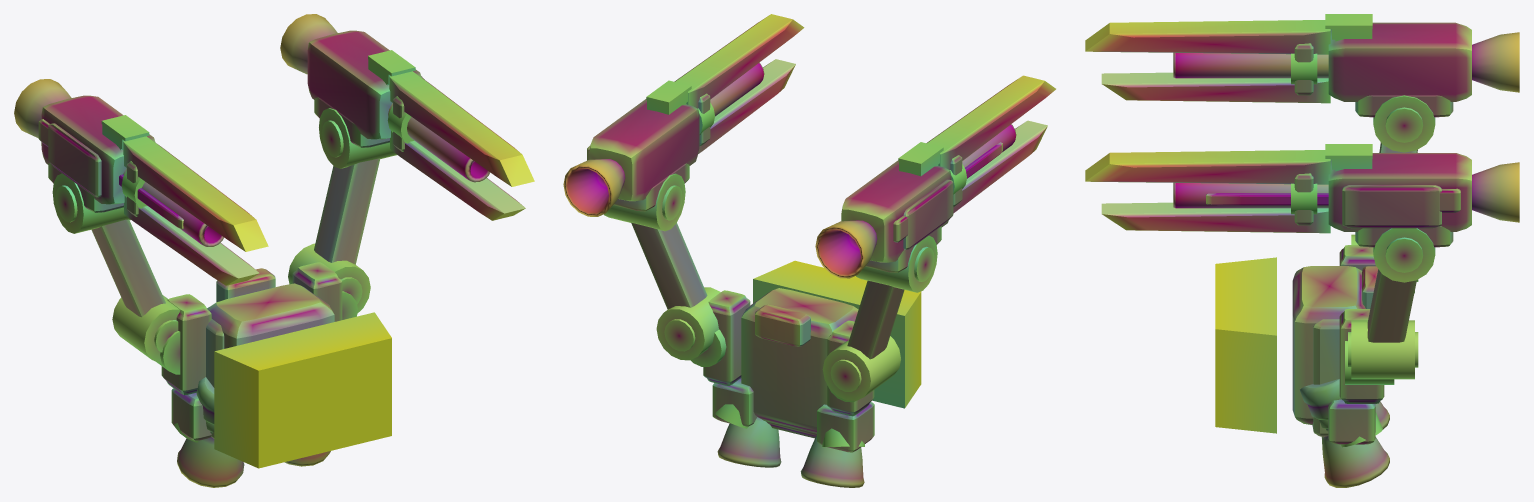
File: llm_gen_dorsal_pack_113_72700b.glb
3 renders of one model, left to right at view 1: azimuth 30°, elevation 25°; view 2: azimuth 150°, elevation 25°; view 3: azimuth 270°, elevation 25°, orthographic. The views are drawn at different scales.
Parts seen in each view (by area): view 1: mounting_dovetail_plug, artillery_breech_6_titanium_silver_r, artillery_upper_rail_12_titanium_silver_r, artillery_upper_rail_12_titanium_silver_l, adapter_dorsal_spine_dark, artillery_pylon_2_adapter_dark_r, artillery_breech_6_titanium_silver_l, artillery_pylon_2_adapter_dark_l, artillery_lower_rail_13_adapter_dark_r, artillery_lower_rail_13_adapter_dark_l, adapter_dorsal_outrigger_dark_l, artillery_flank_armor_7_cobalt_anodized_l (+22 smaller); view 2: adapter_dorsal_spine_dark, artillery_breech_6_titanium_silver_r, mounting_dovetail_plug, artillery_breech_6_titanium_silver_l, artillery_upper_rail_12_titanium_silver_r, artillery_upper_rail_12_titanium_silver_l, artillery_pylon_2_adapter_dark_r, artillery_rear_venturi_10_vernier_bell_l, artillery_rear_venturi_10_vernier_bell_r, artillery_pylon_2_adapter_dark_l, adapter_dorsal_outrigger_dark_r, adapter_sub_art_drum_dark_0_adapter_dark_l (+23 smaller); view 3: mounting_dovetail_plug, artillery_breech_6_titanium_silver_l, artillery_upper_rail_12_titanium_silver_r, artillery_upper_rail_12_titanium_silver_l, artillery_breech_6_titanium_silver_r, adapter_dorsal_spine_dark, artillery_lower_rail_13_adapter_dark_r, artillery_lower_rail_13_adapter_dark_l, artillery_flank_armor_7_cobalt_anodized_r, artillery_barrel_11_barrel_metal_l, adapter_sub_art_drum_dark_0_adapter_dark_r, artillery_pylon_2_adapter_dark_r (+24 smaller).
Part boxes in pixels (x1=…): mounting_dovetail_plug: x1=214, y1=312, x2=391, y2=468; artillery_breech_6_titanium_silver_r: x1=307, y1=30, x2=421, y2=139; artillery_upper_rail_12_titanium_silver_r: x1=389, y1=71, x2=534, y2=186; artillery_upper_rail_12_titanium_silver_l: x1=123, y1=136, x2=268, y2=251; adapter_dorsal_spine_dark: x1=207, y1=283, x2=334, y2=348; artillery_pylon_2_adapter_dark_r: x1=314, y1=158, x2=380, y2=264; artillery_breech_6_titanium_silver_l: x1=41, y1=95, x2=155, y2=204; artillery_pylon_2_adapter_dark_l: x1=91, y1=219, x2=165, y2=317; artillery_lower_rail_13_adapter_dark_r: x1=390, y1=131, x2=525, y2=220; artillery_lower_rail_13_adapter_dark_l: x1=124, y1=195, x2=259, y2=285; adapter_dorsal_outrigger_dark_l: x1=161, y1=294, x2=211, y2=395; artillery_flank_armor_7_cobalt_anodized_l: x1=48, y1=123, x2=101, y2=197; adapter_dorsal_spine_dark: x1=741, y1=288, x2=858, y2=433; artillery_breech_6_titanium_silver_r: x1=589, y1=99, x2=699, y2=201; mounting_dovetail_plug: x1=753, y1=260, x2=921, y2=408; artillery_breech_6_titanium_silver_l: x1=841, y1=160, x2=951, y2=262; artillery_upper_rail_12_titanium_silver_r: x1=674, y1=14, x2=804, y2=108; artillery_upper_rail_12_titanium_silver_l: x1=926, y1=75, x2=1055, y2=169; artillery_pylon_2_adapter_dark_r: x1=631, y1=222, x2=707, y2=309; artillery_rear_venturi_10_vernier_bell_l: x1=815, y1=220, x2=877, y2=278; artillery_rear_venturi_10_vernier_bell_r: x1=563, y1=159, x2=625, y2=216; artillery_pylon_2_adapter_dark_l: x1=847, y1=280, x2=904, y2=359; adapter_dorsal_outrigger_dark_r: x1=703, y1=290, x2=750, y2=385; adapter_sub_art_drum_dark_0_adapter_dark_l: x1=822, y1=336, x2=900, y2=400; mounting_dovetail_plug: x1=1215, y1=257, x2=1276, y2=433; artillery_breech_6_titanium_silver_l: x1=1328, y1=22, x2=1471, y2=101; artillery_upper_rail_12_titanium_silver_r: x1=1085, y1=150, x2=1330, y2=184; artillery_upper_rail_12_titanium_silver_l: x1=1085, y1=20, x2=1330, y2=54; artillery_breech_6_titanium_silver_r: x1=1328, y1=153, x2=1471, y2=231; adapter_dorsal_spine_dark: x1=1292, y1=266, x2=1365, y2=424; artillery_lower_rail_13_adapter_dark_r: x1=1101, y1=202, x2=1330, y2=233; artillery_lower_rail_13_adapter_dark_l: x1=1101, y1=72, x2=1330, y2=103; artillery_flank_armor_7_cobalt_anodized_r: x1=1342, y1=185, x2=1441, y2=228; artillery_barrel_11_barrel_metal_l: x1=1173, y1=52, x2=1328, y2=78; adapter_sub_art_drum_dark_0_adapter_dark_r: x1=1351, y1=320, x2=1414, y2=379; artillery_pylon_2_adapter_dark_r: x1=1367, y1=269, x2=1416, y2=342.
Bounding box in the file's own units: 49.61 × 53.53 × 56.29.
